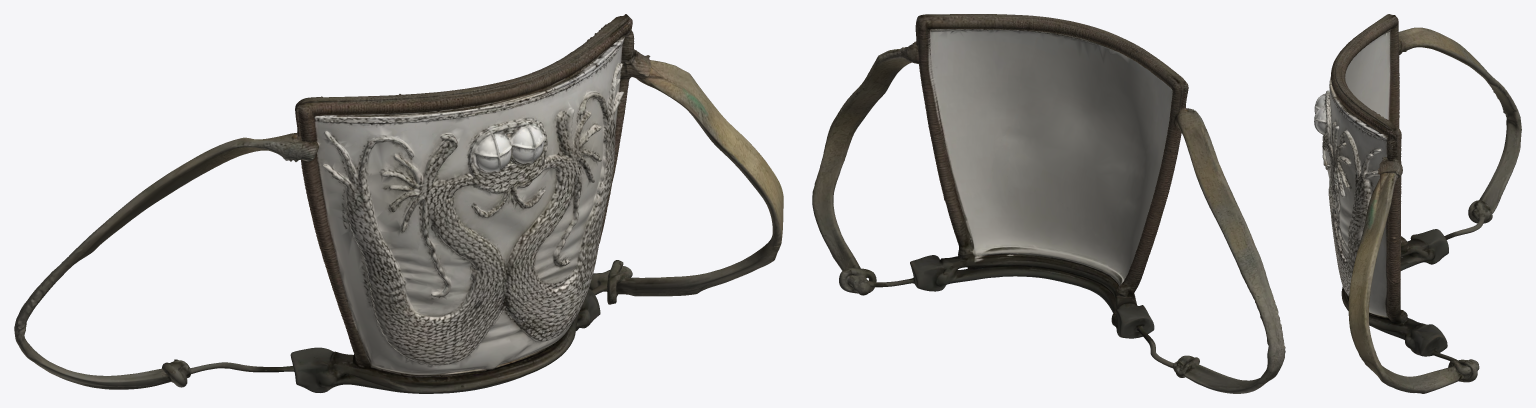
The model's file is ambinan.glb.
The picture shows the model from 3 angles, left to right: view 1: azimuth 30°, elevation 25°; view 2: azimuth 150°, elevation 25°; view 3: azimuth 270°, elevation 25°; orthographic projection. The views are drawn at different scales.
Visible parts, largest first — view 1: Object_4; view 2: Object_4; view 3: Object_4.
Boxes of the visible parts, bbox=[...] form: Object_4: bbox=[14, 14, 783, 393]; Object_4: bbox=[812, 14, 1285, 393]; Object_4: bbox=[1314, 14, 1521, 393].
Size of the model in its own units: 1.11 by 0.5131 by 0.3992.
1 material, 1 textured.
